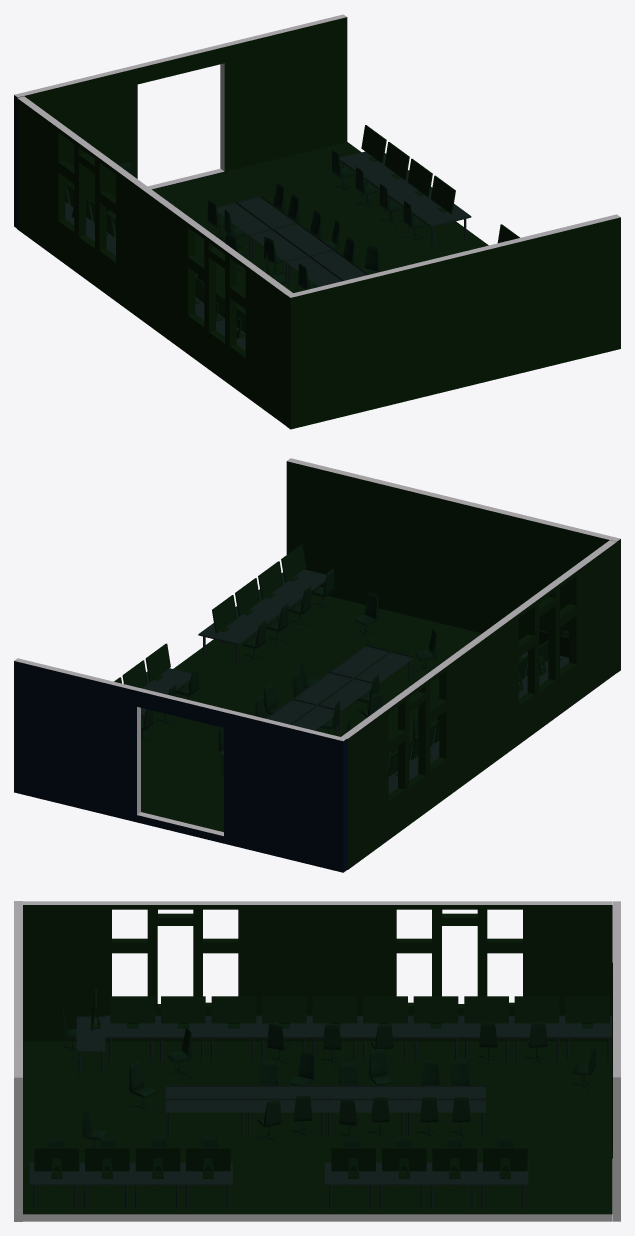
Rendered from roomDev.gltf.
3 renders of one model, top to bottom at view 1: azimuth 30°, elevation 25°; view 2: azimuth 150°, elevation 25°; view 3: azimuth 270°, elevation 25°, orthographic. The views are drawn at different scales.
Parts seen in each view (by area): view 1: wall_dev_left, wall_dev_right, wall_dev_center, floor_dev, desk_dev_center, desk_dev_left, mac_des_left.001, chair.054, Cube.004, desk_dev_right; view 2: wall_dev_center, wall_dev_right, wall_dev_left, floor_dev, desk_dev_center, desk_dev_left2, mac_des_left.002, chair.034, mac_des_left.001, Cube.004, desk_dev_right, desk_dev_left (+2 smaller); view 3: floor_dev, wall_dev_right, Cube.004, desk_dev_right, desk_dev_center, mac_des_left.002, mac_des_left.001, desk_dev_left, desk_dev_left2, wall_dev_left, wall_dev_center, desk_dev_prof (+20 smaller).
Part boxes in pixels (box(x1,y1,x2,y2)): wall_dev_left: box(286, 214, 620, 429); wall_dev_right: box(17, 96, 292, 425); wall_dev_center: box(14, 14, 347, 228); floor_dev: box(90, 142, 488, 312); desk_dev_center: box(215, 196, 368, 286); desk_dev_left: box(340, 151, 471, 247); mac_des_left.001: box(361, 125, 455, 213); chair.054: box(331, 150, 427, 245); Cube.004: box(65, 181, 245, 338); desk_dev_right: box(65, 189, 245, 350); wall_dev_center: box(14, 658, 346, 872); wall_dev_right: box(341, 540, 616, 869); wall_dev_left: box(286, 458, 620, 672); floor_dev: box(141, 594, 521, 831); desk_dev_center: box(220, 645, 413, 775); desk_dev_left2: box(198, 569, 326, 665); mac_des_left.002: box(212, 544, 306, 633); chair.034: box(242, 568, 333, 666); mac_des_left.001: box(114, 643, 170, 688); Cube.004: box(388, 640, 548, 776); desk_dev_right: box(388, 662, 563, 793); desk_dev_left: box(141, 668, 191, 733); floor_dev: box(23, 1041, 612, 1221); wall_dev_right: box(23, 901, 612, 1041); Cube.004: box(110, 996, 609, 1028); desk_dev_right: box(105, 1015, 611, 1061); desk_dev_center: box(165, 1085, 485, 1135); mac_des_left.002: box(34, 1147, 230, 1178); mac_des_left.001: box(331, 1147, 527, 1178); desk_dev_left: box(325, 1162, 528, 1208); desk_dev_left2: box(29, 1162, 232, 1208); wall_dev_left: box(14, 901, 22, 1221); wall_dev_center: box(612, 901, 620, 1221); desk_dev_prof: box(76, 1015, 105, 1074).
Bounding box in the file's own units: 41.11 × 15.66 × 59.73.
